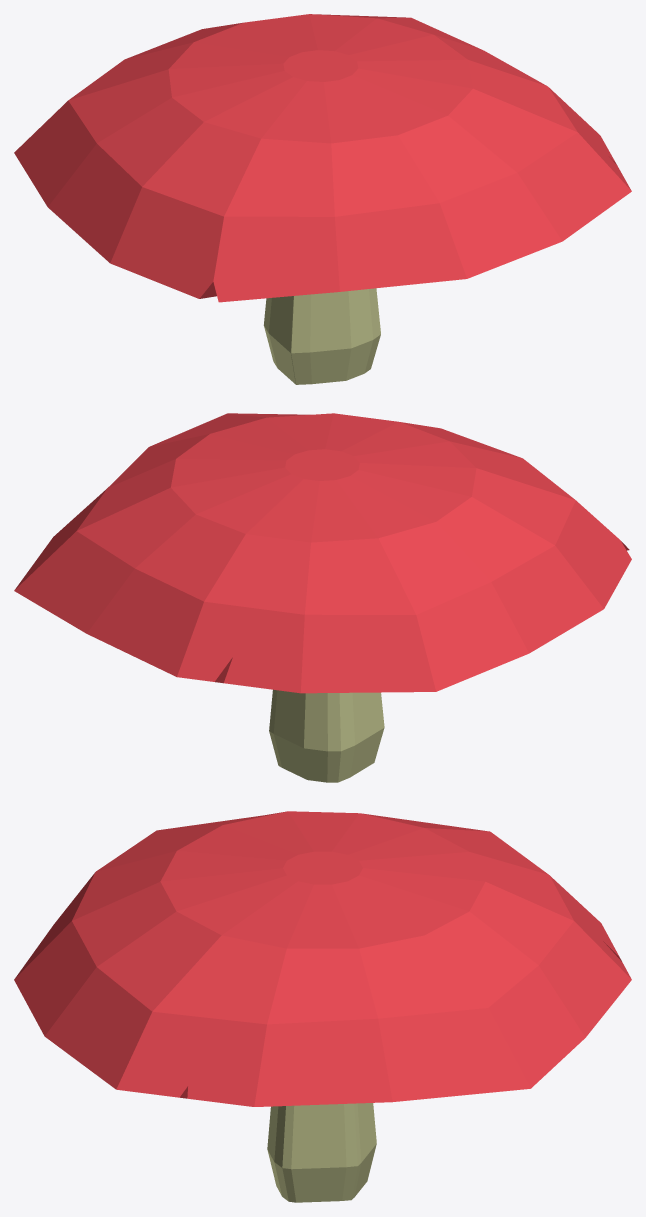
File: MUSHROOM_V2.fbx
3 views of the same model, one above another, from view 1: azimuth 30°, elevation 25°; view 2: azimuth 150°, elevation 25°; view 3: azimuth 270°, elevation 25° (orthographic). The views are drawn at different scales.
Parts seen in each view (by area): view 1: Circle; view 2: Circle; view 3: Circle.
Boxes of the visible parts, left/top/right/bottom form: Circle: left=14, top=14, right=631, bottom=384; Circle: left=14, top=413, right=631, bottom=782; Circle: left=14, top=811, right=631, bottom=1202.
Size of the model in its own units: 318 by 184 by 327.
